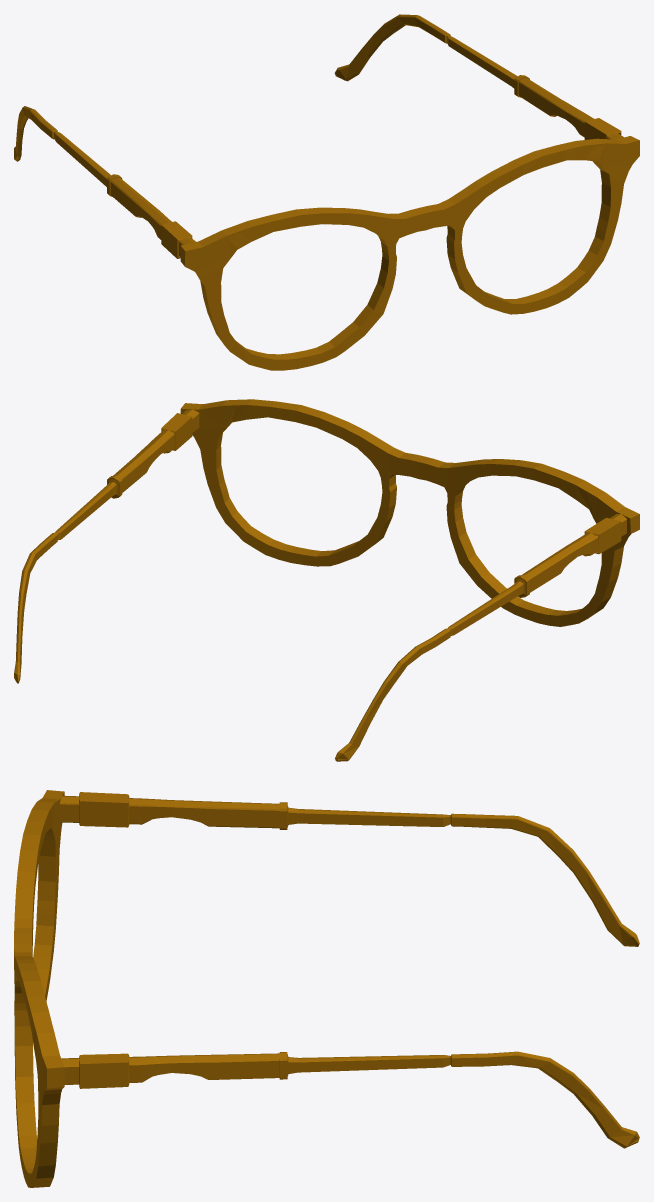
Rendered from glass_yellow.obj.
The picture shows the model from 3 angles, top to bottom: view 1: azimuth 30°, elevation 25°; view 2: azimuth 150°, elevation 25°; view 3: azimuth 270°, elevation 25°; orthographic projection. The views are drawn at different scales.
Parts seen in each view (by area): view 1: group6_group5_group3_group1_group2_pCube1_polySurface6_grou.004; view 2: group6_group5_group3_group1_group2_pCube1_polySurface6_grou.004; view 3: group6_group5_group3_group1_group2_pCube1_polySurface6_grou.004.
Part boxes in pixels (bbox=[...]): group6_group5_group3_group1_group2_pCube1_polySurface6_grou.004: bbox=[14, 14, 639, 370]; group6_group5_group3_group1_group2_pCube1_polySurface6_grou.004: bbox=[14, 399, 639, 761]; group6_group5_group3_group1_group2_pCube1_polySurface6_grou.004: bbox=[14, 790, 639, 1187].
Size of the model in its own units: 0.068 by 0.0219 by 0.0645.
